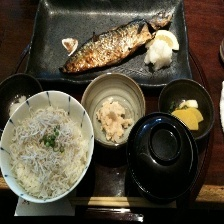rice: (5, 107, 91, 199)
